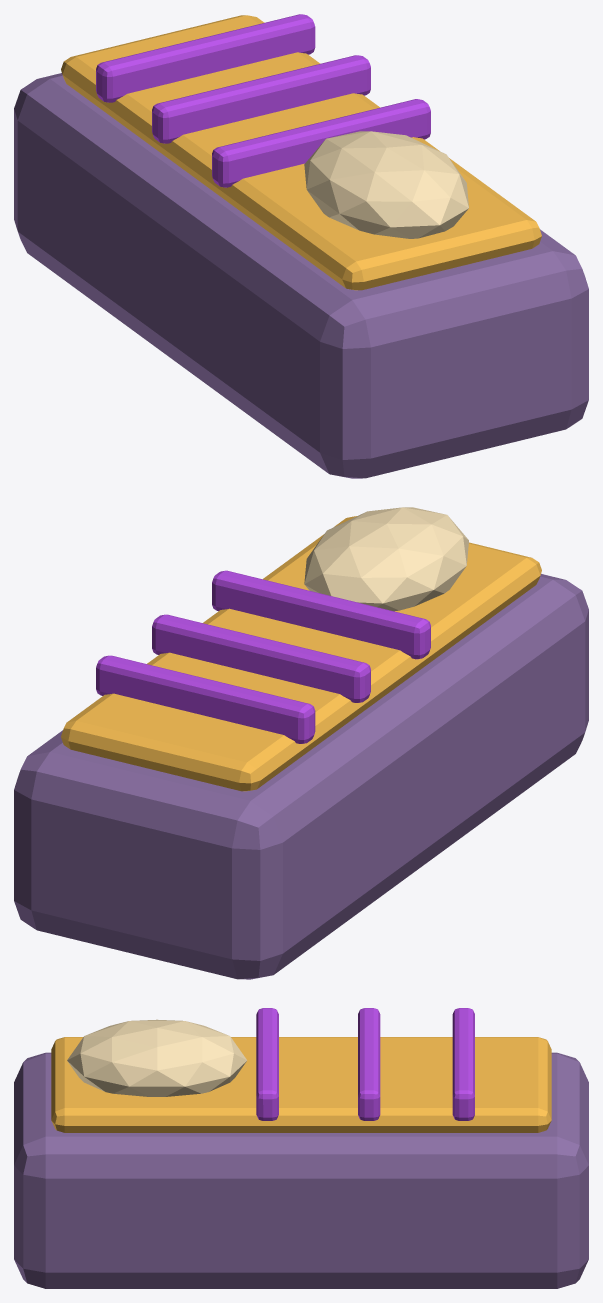
The model's file is sarcophagus.glb.
3 views of the same model, one above another, from view 1: azimuth 30°, elevation 25°; view 2: azimuth 150°, elevation 25°; view 3: azimuth 270°, elevation 25° (orthographic). The views are drawn at different scales.
Parts seen in each view (by area): view 1: SarcophagusMesh; view 2: SarcophagusMesh; view 3: SarcophagusMesh.
Part boxes in pixels (bbox=[...]): SarcophagusMesh: bbox=[14, 14, 588, 478]; SarcophagusMesh: bbox=[14, 507, 588, 979]; SarcophagusMesh: bbox=[14, 1008, 588, 1288].
Size of the model in its own units: 1.15 by 1.07 by 2.55.
